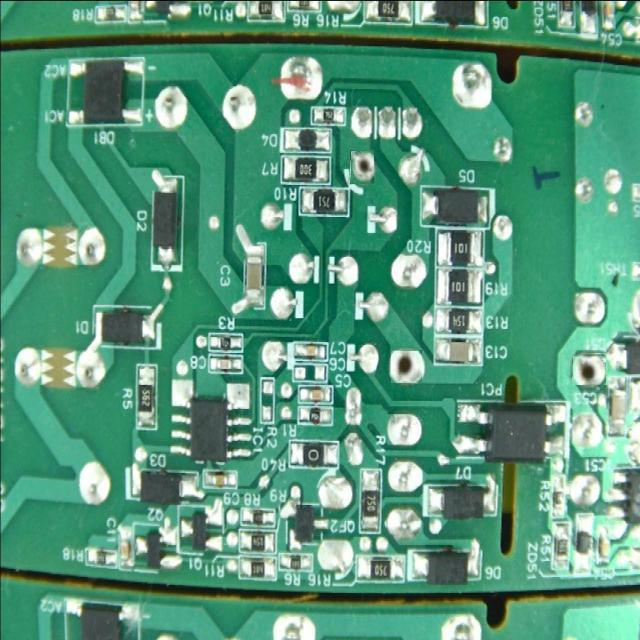damged: (390, 349, 422, 383), (572, 353, 606, 385), (350, 150, 374, 184)
